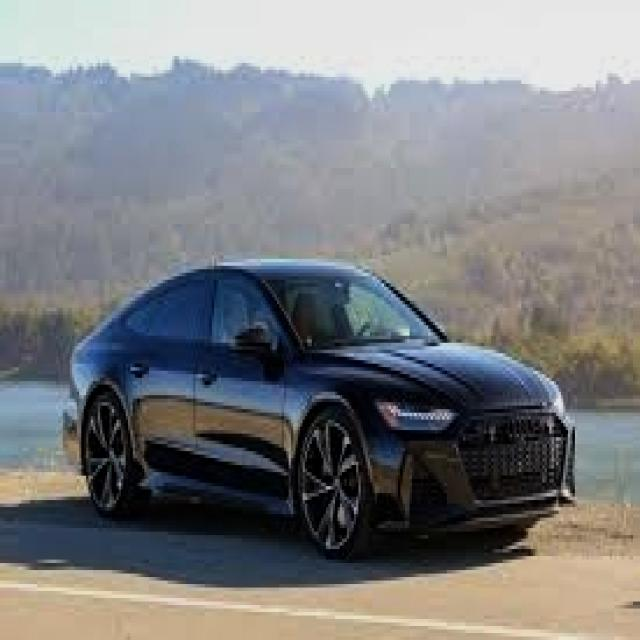black: (64, 252, 600, 538)
